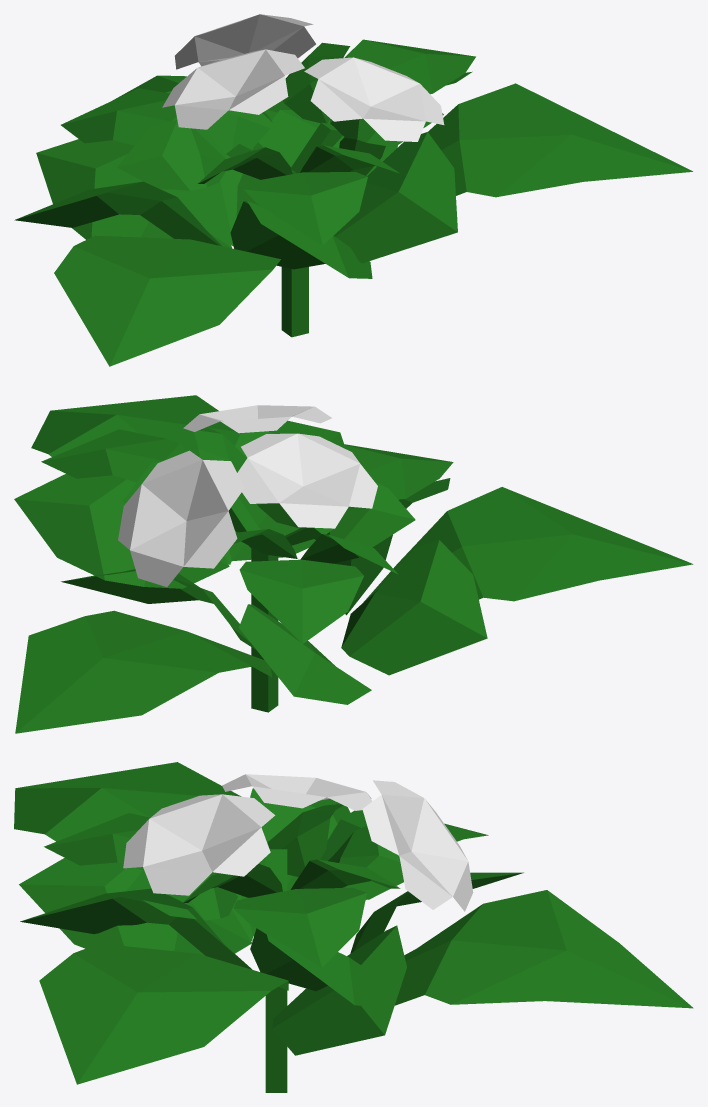
The model's file is Plant_stage_03.fbx.
3 views of the same model, one above another, from view 1: azimuth 30°, elevation 25°; view 2: azimuth 150°, elevation 25°; view 3: azimuth 270°, elevation 25° (orthographic). The views are drawn at different scales.
Visible parts, largest first — view 1: Plant_stage_03; view 2: Plant_stage_03; view 3: Plant_stage_03.
Part boxes in pixels (left/top/right/bottom): Plant_stage_03: left=14, top=14, right=692, bottom=366; Plant_stage_03: left=14, top=395, right=693, bottom=733; Plant_stage_03: left=14, top=762, right=693, bottom=1092.
Bounding box in the file's own units: 37.92 × 16.56 × 33.74.
